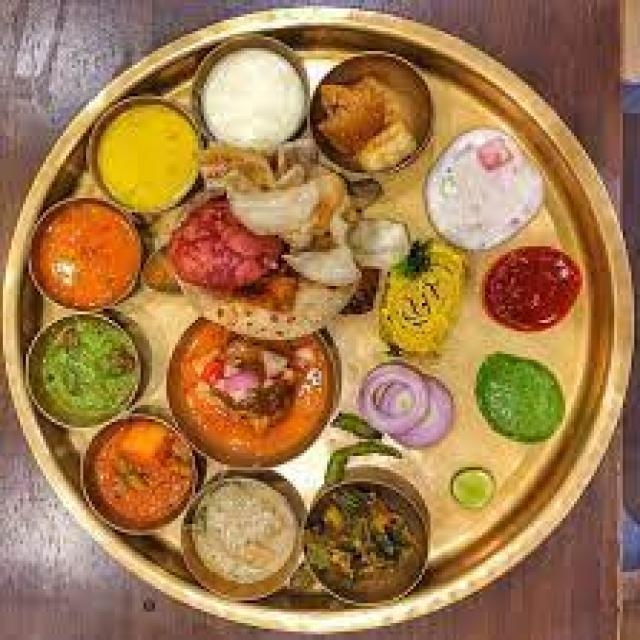curd: (408, 119, 550, 251)
dal: (188, 477, 306, 591), (28, 203, 141, 311), (91, 104, 202, 204)
pickle: (478, 247, 583, 340)
sambar-rasam: (412, 124, 551, 251)
sweet: (159, 321, 341, 469), (418, 128, 547, 249)
veg-fry: (161, 318, 339, 469), (72, 419, 202, 532)
